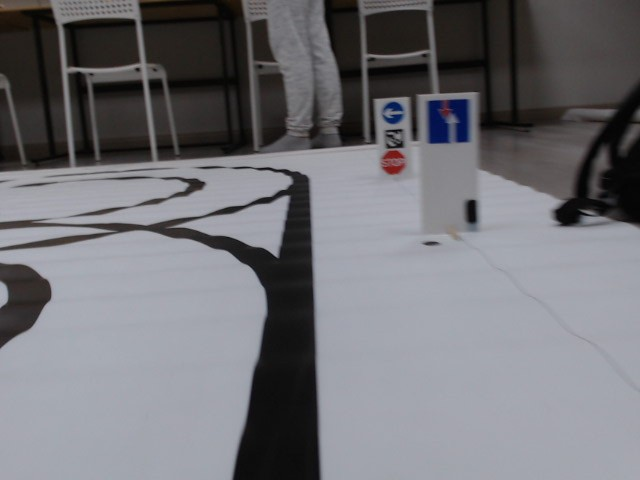Stop: (382, 151, 405, 175)
priority_movement: (423, 97, 471, 145)
